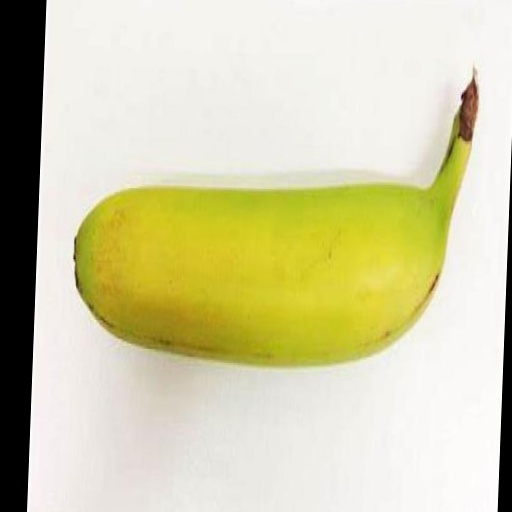fruit: (75, 78, 476, 365)
